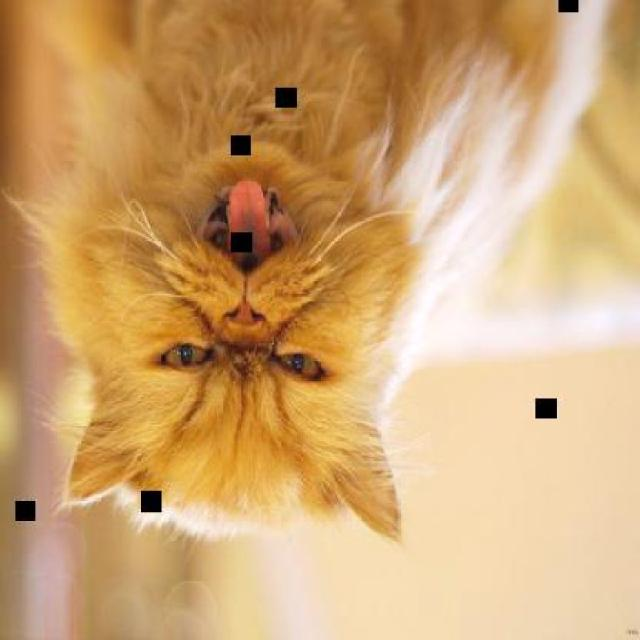cat: (60, 2, 595, 543)
